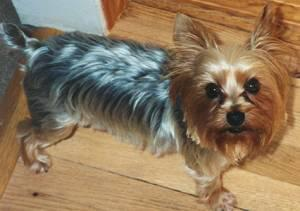dog-yorkshire_terrier: (172, 1, 281, 141)
